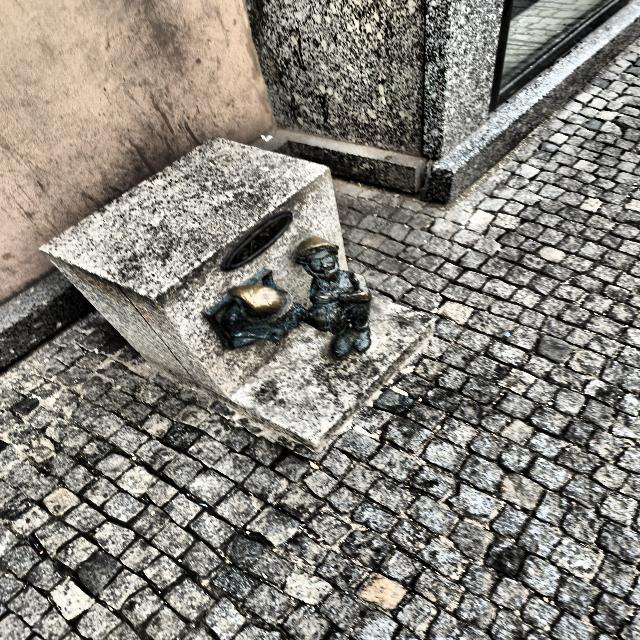Kantorki: (205, 238, 372, 358)
